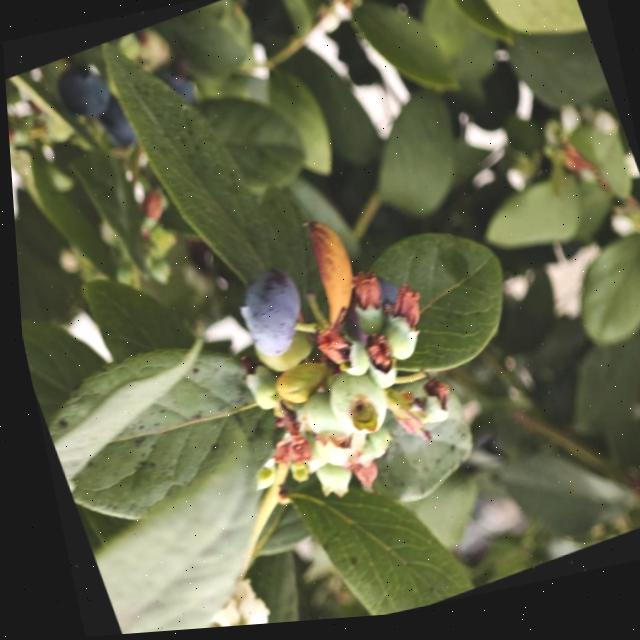RipeBlueBerry: (224, 265, 312, 366), (47, 54, 117, 126)
